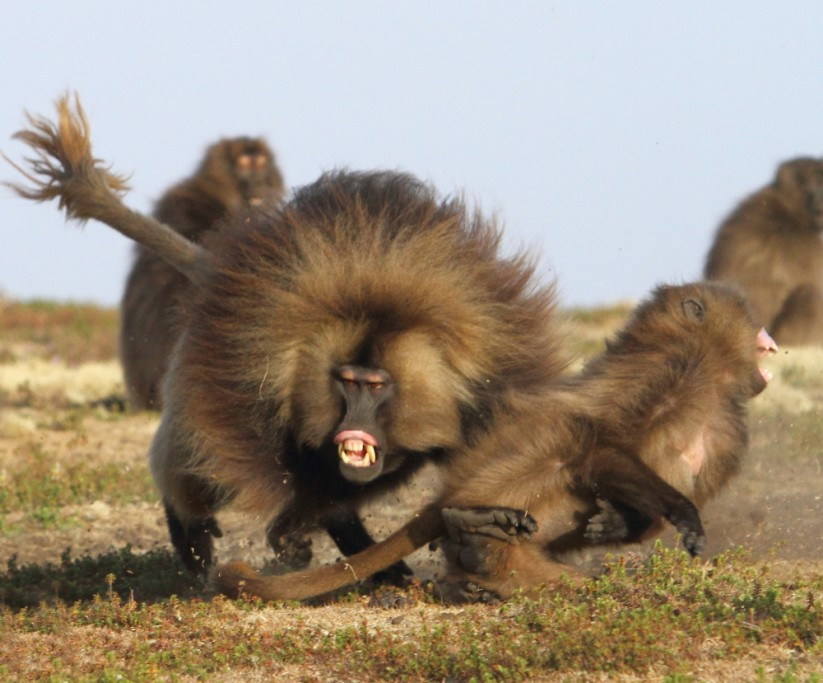Gelada: (180, 211, 515, 519), (454, 279, 790, 576), (96, 131, 289, 389), (707, 144, 823, 351)
